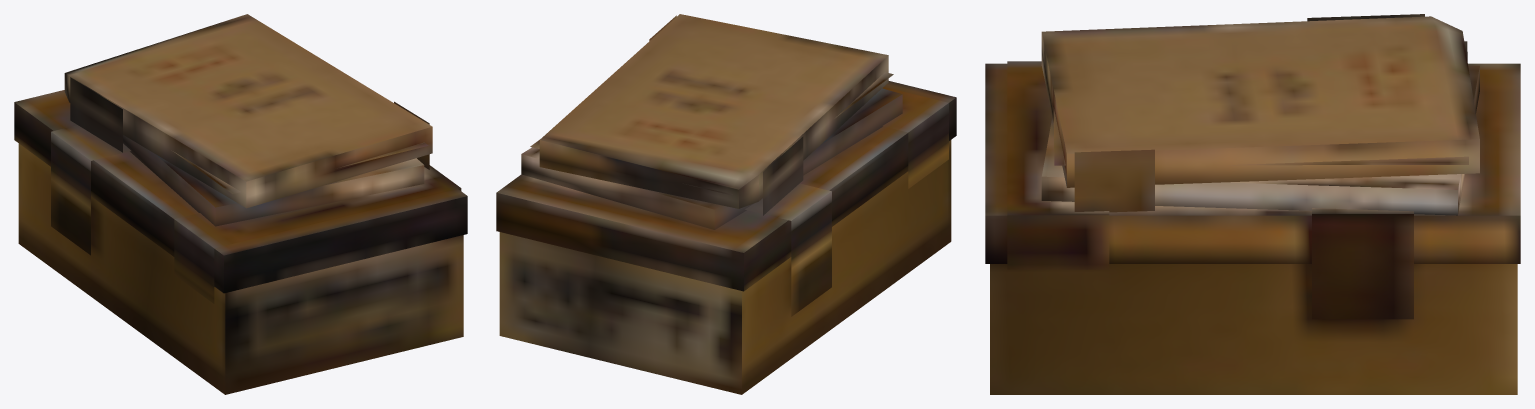
The model's file is OparetionRoom_AI_Prop.030.fbx.
3 views of the same model, side by side, from view 1: azimuth 30°, elevation 25°; view 2: azimuth 150°, elevation 25°; view 3: azimuth 270°, elevation 25° (orthographic). The views are drawn at different scales.
Visible parts, largest first — view 1: OparetionRoom_AI_Prop.030; view 2: OparetionRoom_AI_Prop.030; view 3: OparetionRoom_AI_Prop.030.
Part boxes in pixels (box(x1,y1,x2,y2)): OparetionRoom_AI_Prop.030: box(14, 14, 467, 394); OparetionRoom_AI_Prop.030: box(496, 14, 956, 394); OparetionRoom_AI_Prop.030: box(985, 14, 1520, 394).
Size of the model in its own units: 59.97 by 43.27 by 86.79.
